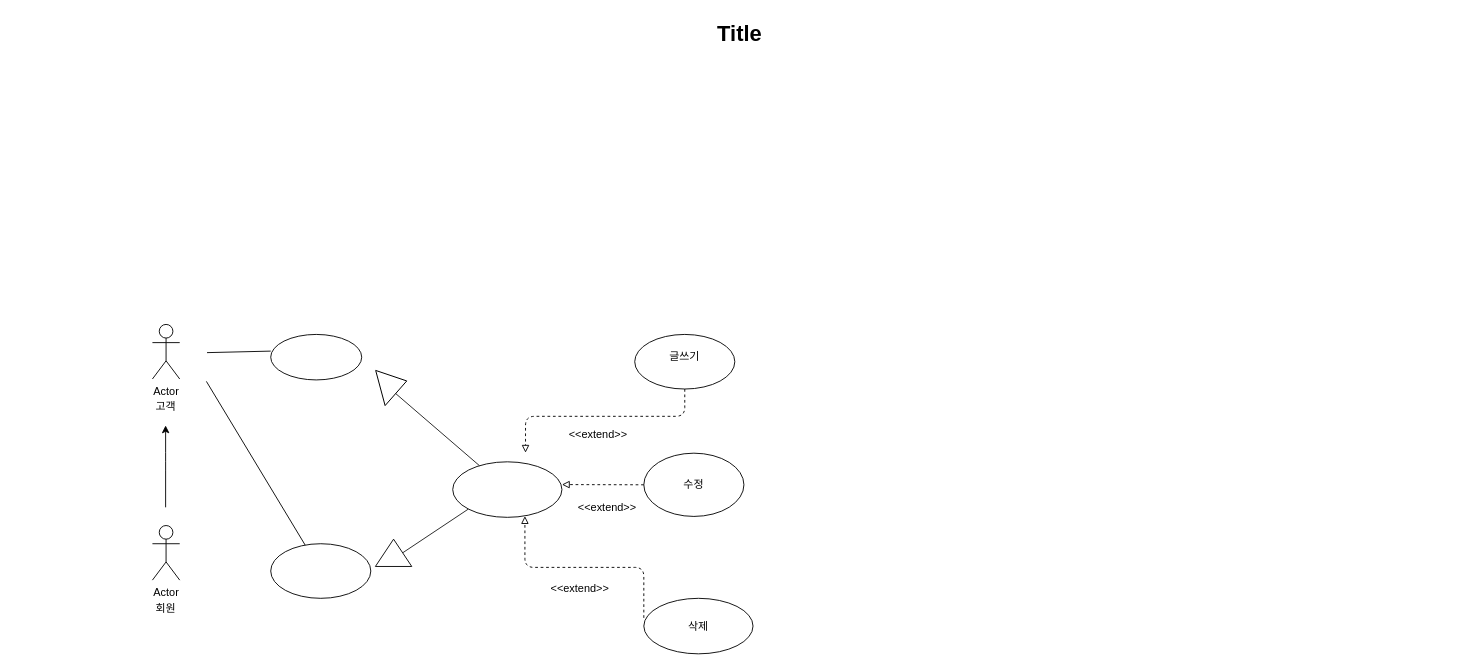
The diagram is 1478 pixels wide and 670 high, and some of its shapes have lost their labels. Here are the shapes that lost their labels. From the top down, the centre of each, then its label:
point 316,357: 게시물 검색
point 507,489: 글목록
point 320,570: 게시글 카테고리
